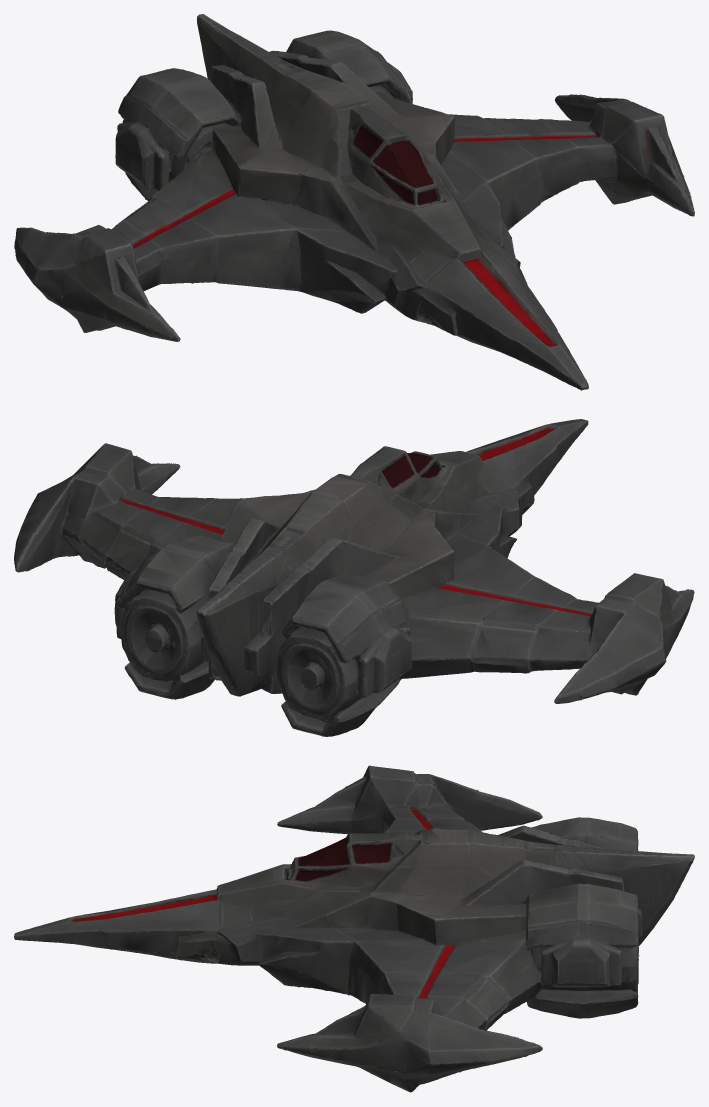
File: pirate-fighter.glb
3 renders of one model, top to bottom at view 1: azimuth 30°, elevation 25°; view 2: azimuth 150°, elevation 25°; view 3: azimuth 270°, elevation 25°, orthographic. The views are drawn at different scales.
Parts seen in each view (by area): view 1: Mesh_0; view 2: Mesh_0; view 3: Mesh_0.
Part boxes in pixels (bbox=[...]): Mesh_0: bbox=[14, 14, 694, 390]; Mesh_0: bbox=[14, 419, 694, 736]; Mesh_0: bbox=[14, 765, 694, 1092].
Bounding box in the file's own units: 0.9481 × 0.2304 × 0.9988.
1 material, 1 textured.
